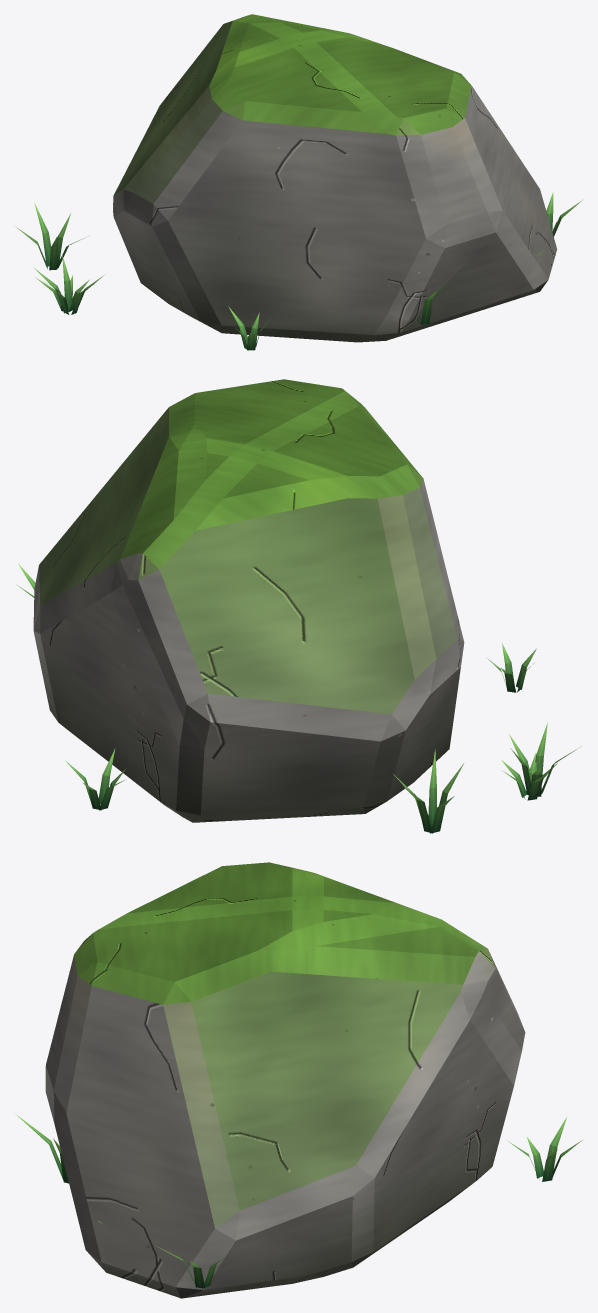
File: boulder_5.glb
3 renders of one model, top to bottom at view 1: azimuth 30°, elevation 25°; view 2: azimuth 150°, elevation 25°; view 3: azimuth 270°, elevation 25°, orthographic. The views are drawn at different scales.
Visible parts, largest first — view 1: boulder_5_rock, boulder_5_weeds; view 2: boulder_5_rock, boulder_5_weeds; view 3: boulder_5_rock, boulder_5_weeds.
Part boxes in pixels (x1,y1,x2,y2): boulder_5_rock: (113, 14, 557, 342); boulder_5_weeds: (15, 192, 583, 350); boulder_5_rock: (33, 379, 464, 822); boulder_5_weeds: (16, 563, 581, 833); boulder_5_rock: (45, 862, 525, 1298); boulder_5_weeds: (14, 1113, 582, 1288).
Bounding box in the file's own units: 3.52 × 1.69 × 2.87.
2 materials, 2 textured.
